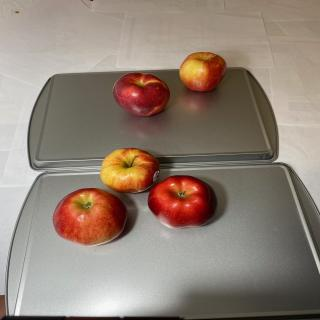Apple: (52, 188, 128, 247), (148, 175, 218, 229), (100, 148, 160, 194), (112, 72, 170, 117), (179, 52, 227, 92)
